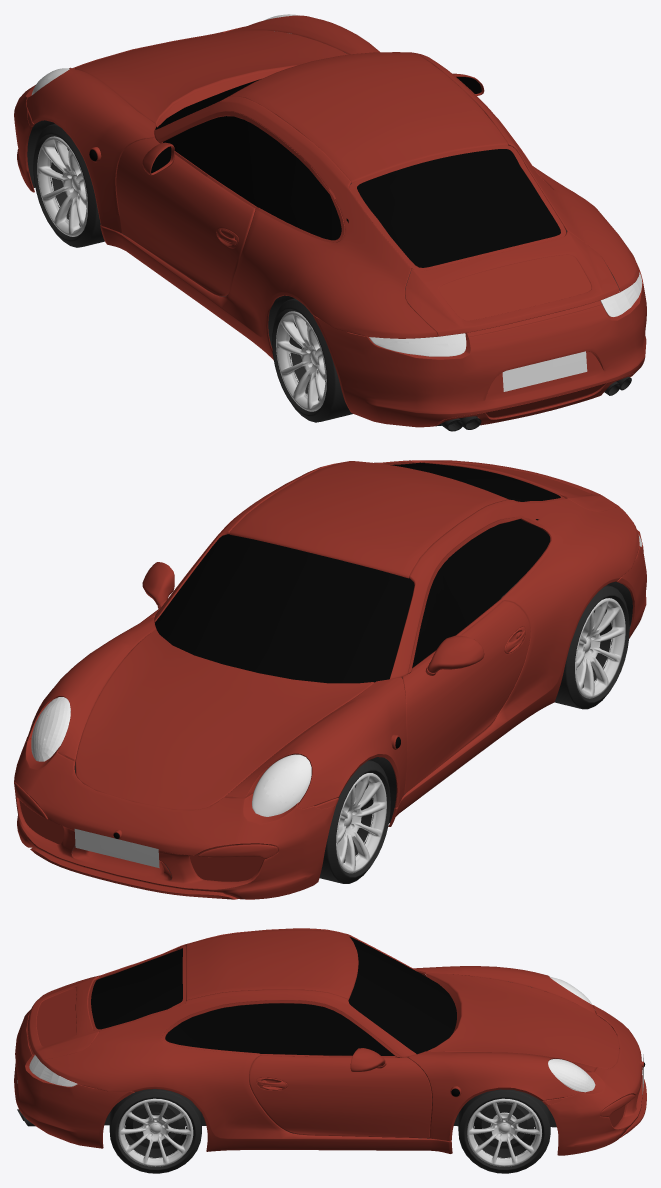
Rendered from porsche.glb.
3 renders of one model, top to bottom at view 1: azimuth 30°, elevation 25°; view 2: azimuth 150°, elevation 25°; view 3: azimuth 270°, elevation 25°, orthographic. The views are drawn at different scales.
Visible parts, largest first — view 1: maincar1_car, window, maincar1_back, maincar1_front_left, License Plate, down, Light_Red_Back_Left, Light_White_Back_Left; view 2: maincar1_car, window, maincar1_back, maincar1_front_left, Light_Lamp Housings_Front_Left, License Plate, Light_Lamp Housings_Front_Right, down; view 3: maincar1_car, window, maincar1_front_right, maincar1_back, Light_Lamp Housings_Front_Right.
Part boxes in pixels (x1,y1,x2,y2): maincar1_car: (14,15,646,427); window: (89,77,560,267); maincar1_back: (272,298,352,422); maincar1_front_left: (33,124,104,247); License Plate: (502,351,587,391); down: (27,52,631,431); Light_Red_Back_Left: (369,333,466,356); Light_White_Back_Left: (389,341,463,355); maincar1_car: (14,460,646,899); window: (113,462,560,838); maincar1_back: (554,585,629,709); maincar1_front_left: (319,760,390,883); Light_Lamp Housings_Front_Left: (252,754,311,816); License Plate: (74,829,159,868); Light_Lamp Housings_Front_Right: (31,697,70,761); down: (72,581,632,879); maincar1_car: (14,928,646,1155); window: (91,937,645,1096); maincar1_front_right: (458,1089,550,1173); maincar1_back: (109,1089,201,1173); Light_Lamp Housings_Front_Right: (548,1059,595,1092).
Bounding box in the file's own units: 2.01 × 1.32 × 4.52.
